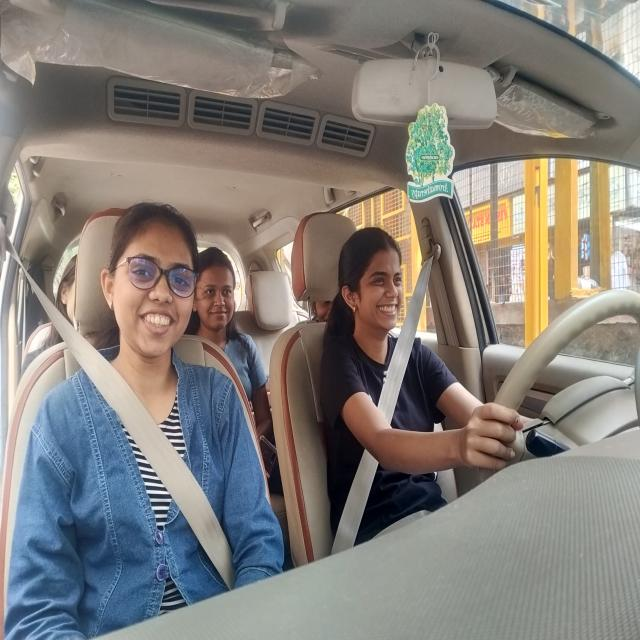person: (99, 198, 198, 362), (340, 227, 408, 338), (200, 239, 238, 338), (57, 253, 77, 333), (313, 298, 337, 324)
